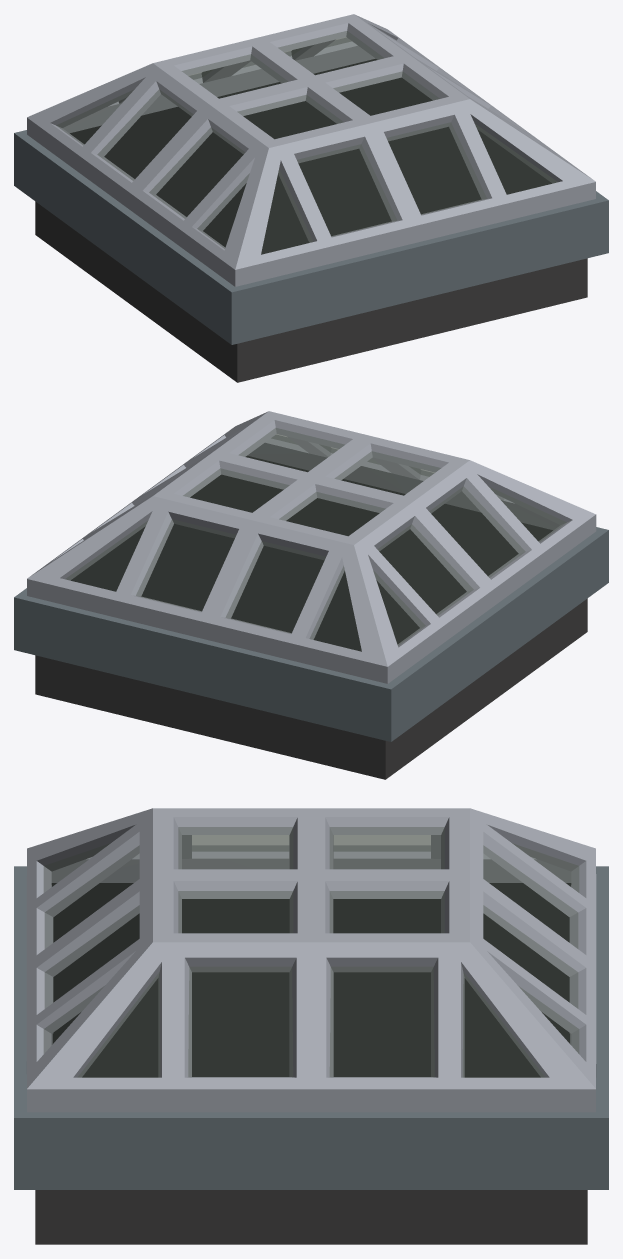
Rendered from SM_Bld_Skylight_02.fbx.
3 views of the same model, one above another, from view 1: azimuth 30°, elevation 25°; view 2: azimuth 150°, elevation 25°; view 3: azimuth 270°, elevation 25° (orthographic). The views are drawn at different scales.
Visible parts, largest first — view 1: SM_Bld_Skylight_02; view 2: SM_Bld_Skylight_02; view 3: SM_Bld_Skylight_02.
Boxes of the visible parts, x1=… form: SM_Bld_Skylight_02: x1=14, y1=14, x2=608, y2=382; SM_Bld_Skylight_02: x1=14, y1=411, x2=608, y2=779; SM_Bld_Skylight_02: x1=14, y1=808, x2=608, y2=1244.
Size of the model in its own units: 105 by 49.34 by 105.
